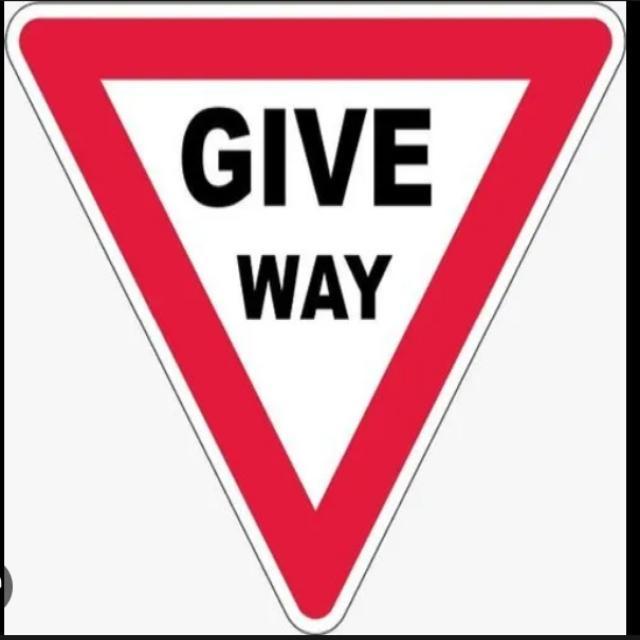GIVE_WAY: (9, 4, 626, 640)
